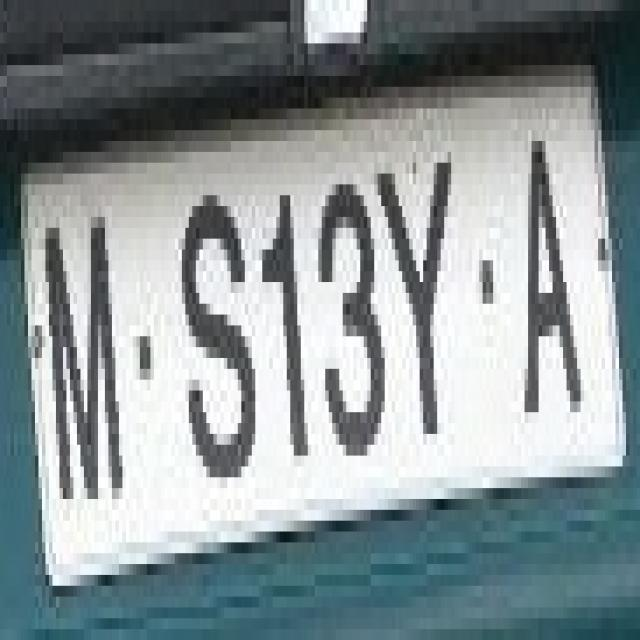LicensePlate: (16, 72, 634, 592)
